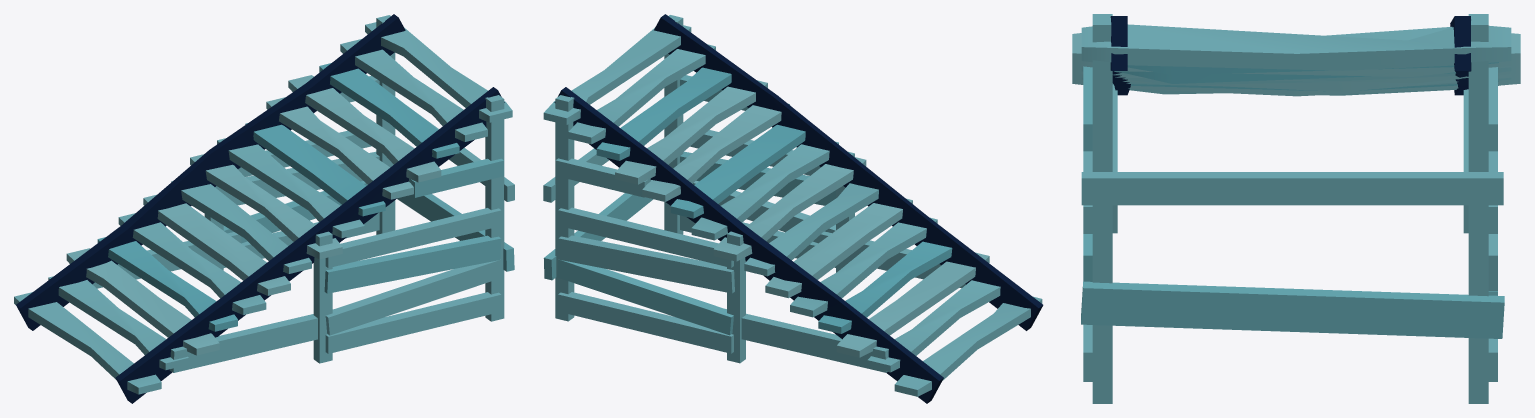
The model's file is SM_Bld_Shanty_Stairs_01.glb.
3 views of the same model, side by side, from view 1: azimuth 30°, elevation 25°; view 2: azimuth 150°, elevation 25°; view 3: azimuth 270°, elevation 25° (orthographic). The views are drawn at different scales.
Visible parts, largest first — view 1: SM_Bld_Shanty_Stairs_01; view 2: SM_Bld_Shanty_Stairs_01; view 3: SM_Bld_Shanty_Stairs_01.
Part boxes in pixels (bbox=[...]): SM_Bld_Shanty_Stairs_01: bbox=[14, 14, 514, 403]; SM_Bld_Shanty_Stairs_01: bbox=[543, 14, 1043, 403]; SM_Bld_Shanty_Stairs_01: bbox=[1072, 14, 1520, 403].
Bounding box in the file's own units: 0.0488 × 0.0268 × 0.0281.
